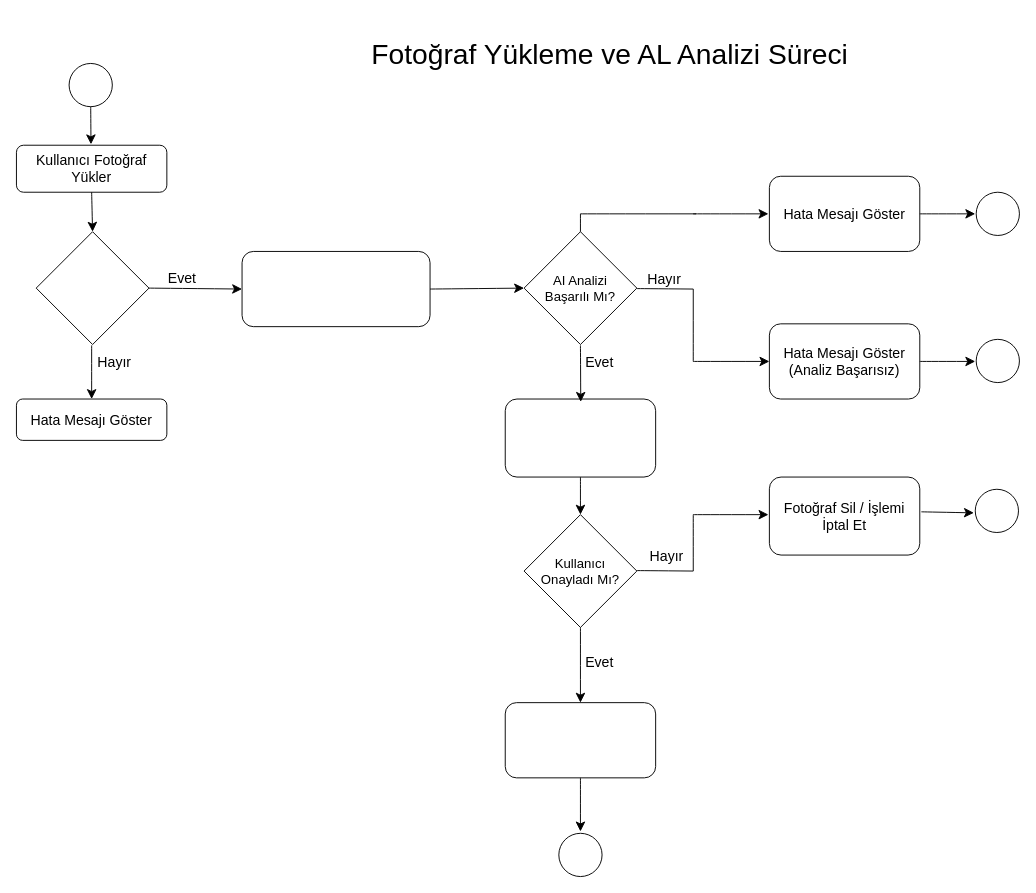
Image size: 1036x893. Some labels were removed from this diagram. Each missing label, with the centre of its shape:
"AI Analizine Gönder (Vision API)" goes at pixel 335 289.
"Etiketleri Göster ve Onay İste" goes at pixel 580 437.
"Format Uygun Mu?" goes at pixel 92 288.
"Veri Tabanına Kaydet" goes at pixel 580 740.
